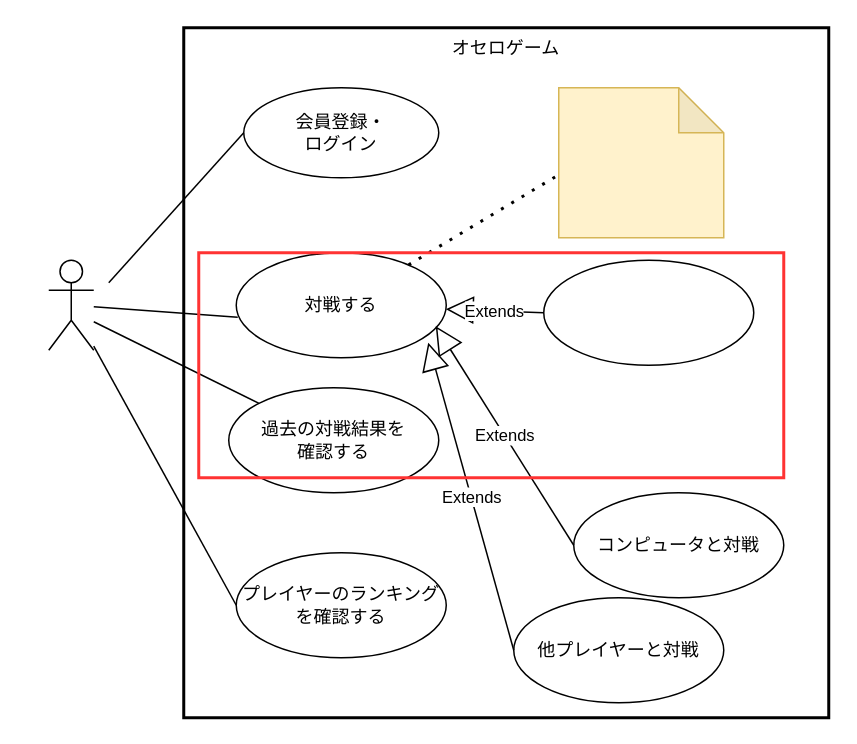
This 857x744 diagram has some shape labels left out. The shapes that lost their labels are listed below. From the top down, each one's centre as x and y in pixels, then its label:
At (640,162): "・対戦を開始する ・盤面を見る ・石を打つ".
At (70,304): "プレイヤー".
At (648,312): "一人で黒白交互に打つ".
